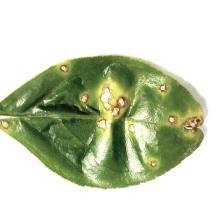canker: (55, 64, 201, 139)
